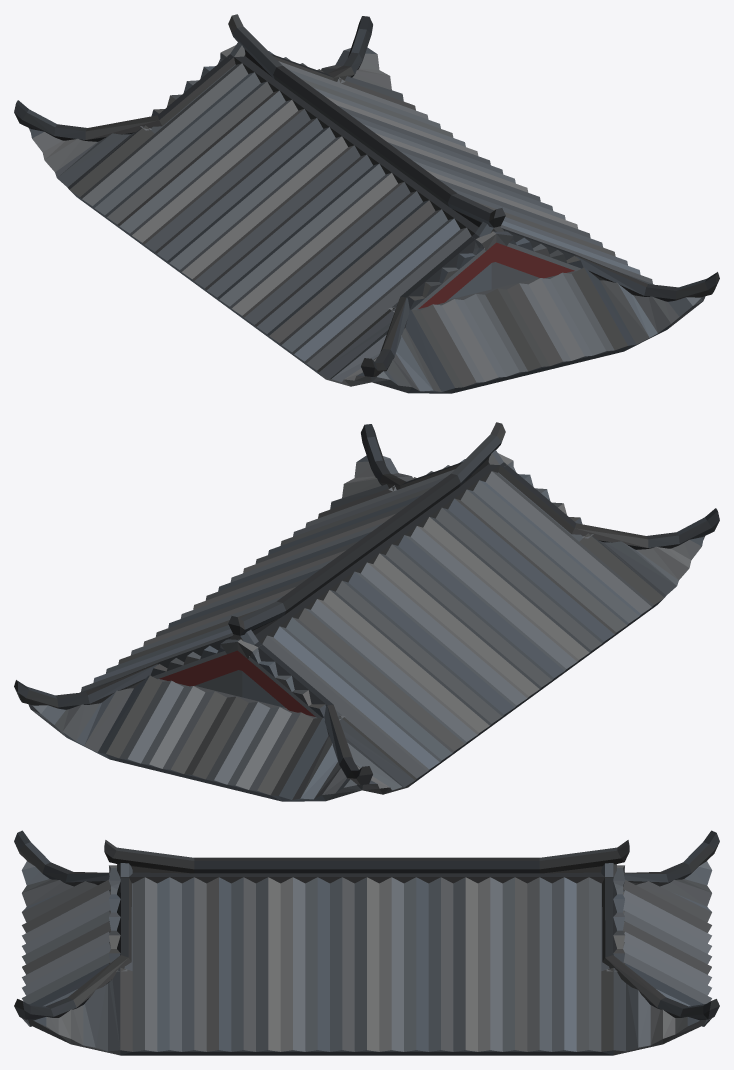
File: BuildingA-Ext_RoofLOD1.fbx
3 renders of one model, top to bottom at view 1: azimuth 30°, elevation 25°; view 2: azimuth 150°, elevation 25°; view 3: azimuth 270°, elevation 25°, orthographic.
Parts seen in each view (by area): view 1: BuildingA-Ext_RoofLOD1; view 2: BuildingA-Ext_RoofLOD1; view 3: BuildingA-Ext_RoofLOD1.
Boxes of the visible parts, bbox=[...] form: BuildingA-Ext_RoofLOD1: bbox=[14, 14, 719, 393]; BuildingA-Ext_RoofLOD1: bbox=[14, 422, 719, 801]; BuildingA-Ext_RoofLOD1: bbox=[14, 830, 719, 1055].
Bounding box in the file's own units: 1039 × 376 × 1789.
